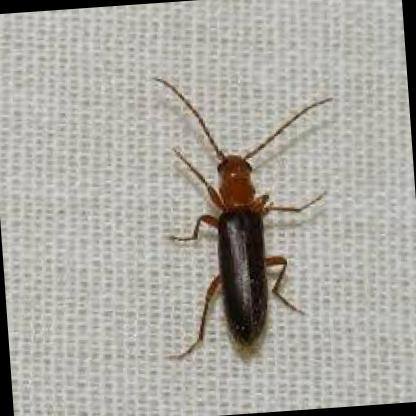blister beetle: (153, 77, 334, 349)
